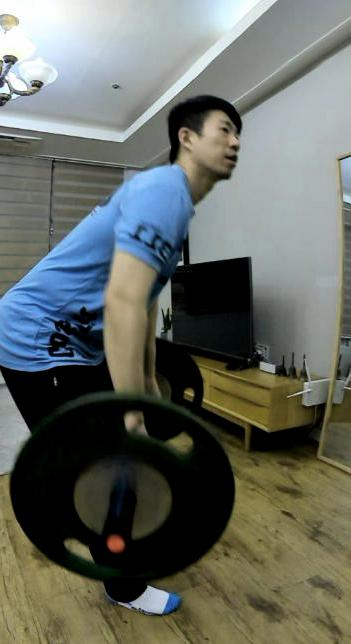Barbell: (94, 526, 133, 562)
